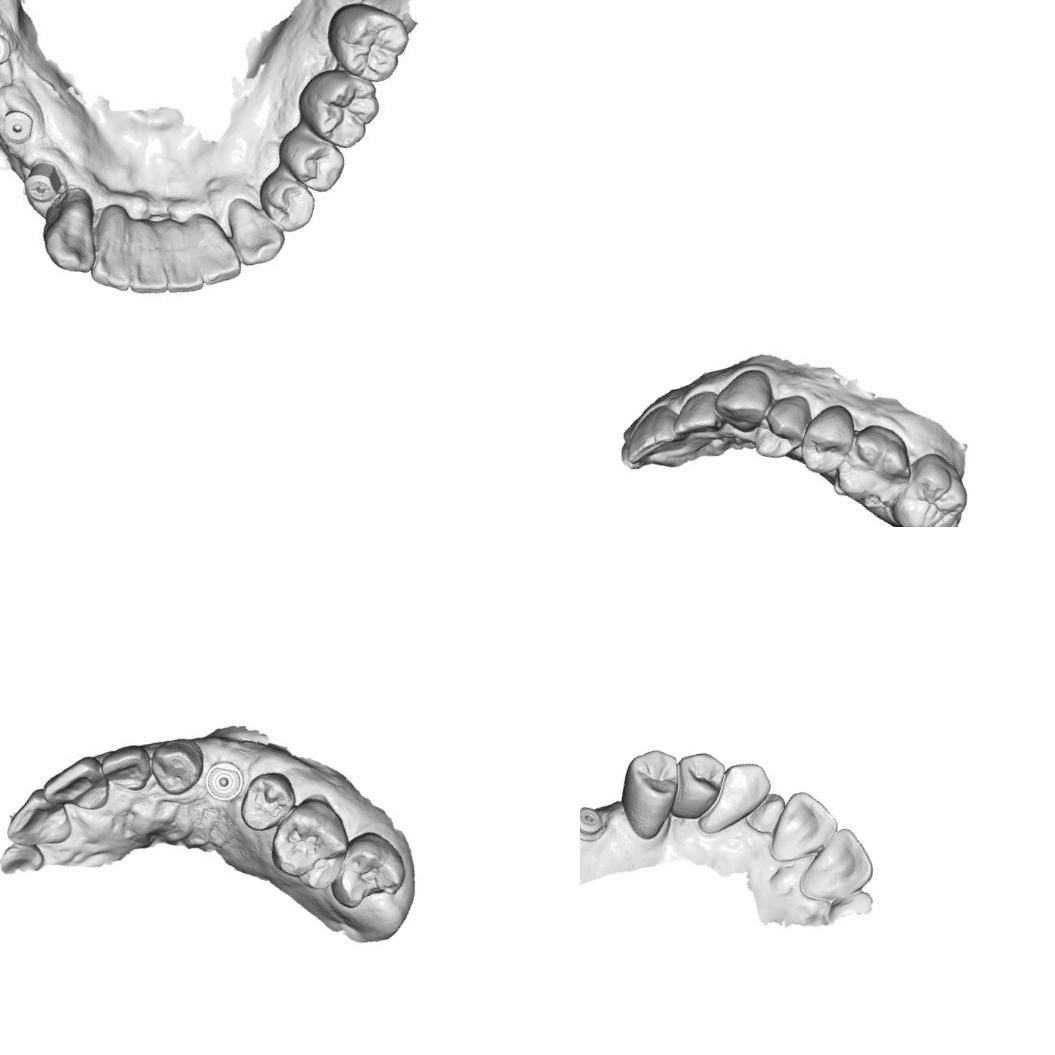canine: (695, 752, 776, 848), (35, 190, 106, 276), (707, 358, 782, 438), (141, 729, 210, 801), (226, 200, 291, 274)
implant: (201, 759, 249, 806), (0, 102, 39, 145), (580, 801, 609, 842), (0, 21, 20, 78)
implant_plus: (18, 160, 62, 204)
incisor: (794, 818, 884, 914), (764, 784, 844, 876), (35, 744, 116, 820), (0, 784, 81, 858), (145, 218, 216, 300), (176, 213, 250, 290), (86, 204, 150, 288), (119, 221, 179, 295), (667, 382, 730, 446), (95, 735, 159, 795), (740, 781, 790, 840), (622, 408, 666, 470), (644, 400, 690, 452)
molar: (260, 784, 360, 896), (288, 62, 390, 158), (827, 416, 922, 518), (314, 0, 420, 91), (327, 826, 414, 920), (886, 443, 980, 527)
premolar: (608, 739, 688, 845), (791, 395, 865, 484), (746, 382, 818, 467), (662, 743, 732, 829), (274, 124, 350, 197), (234, 763, 298, 838), (252, 166, 322, 233)
